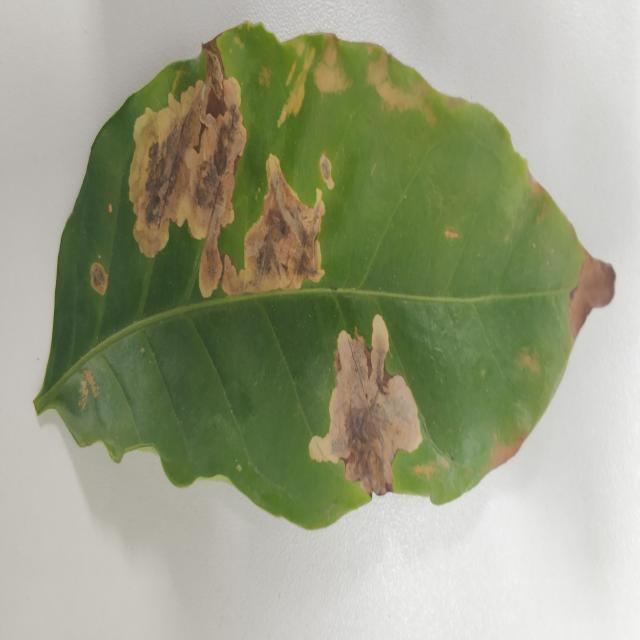Plaga-Minador: (32, 23, 617, 533)
